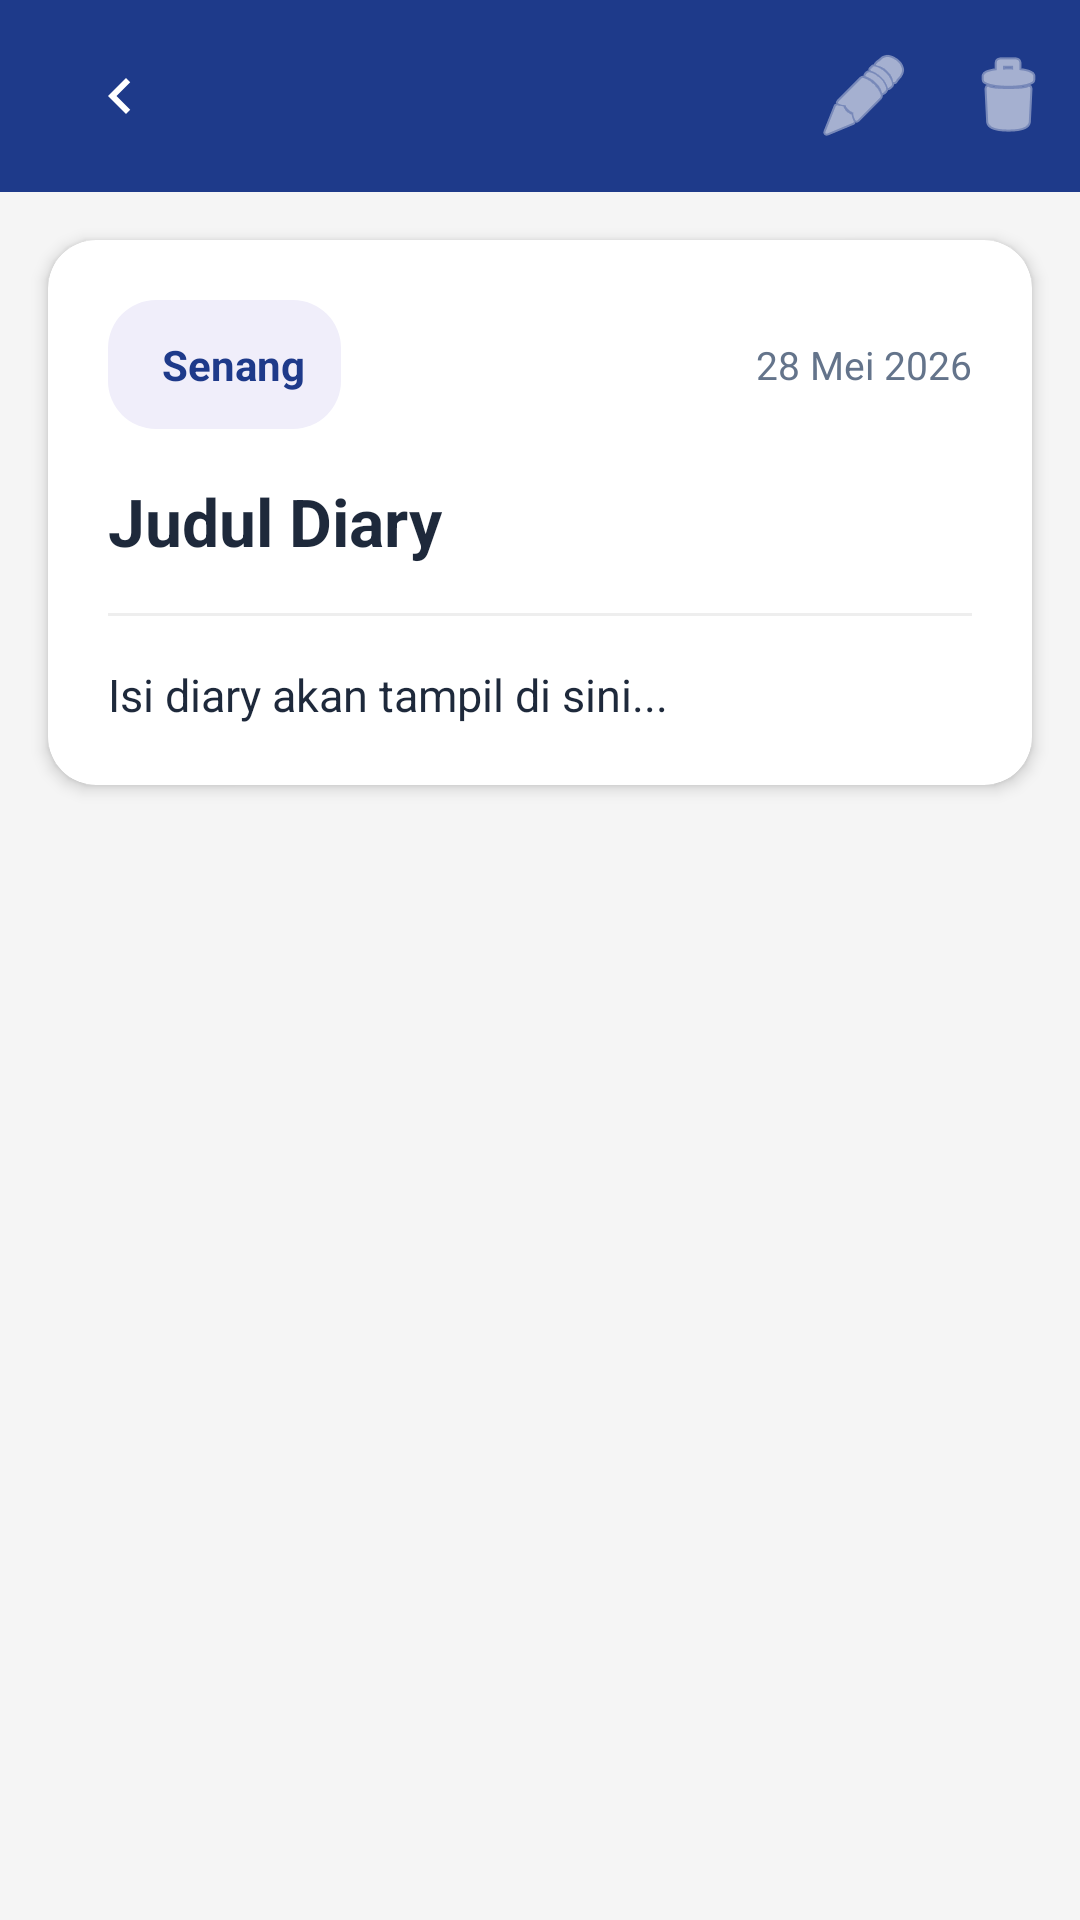

Icons on this 1080px x 1920px Android screen, each with its box as (x1, y1, x2, y2):
Edit: (823, 55, 904, 136)
Hapus: (981, 57, 1036, 132)
Kembali: (108, 78, 130, 114)
